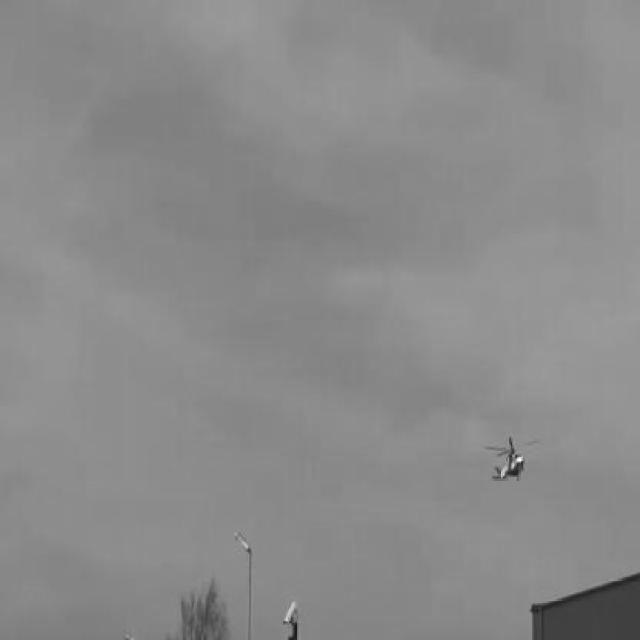helikopter: (482, 430, 536, 488)
